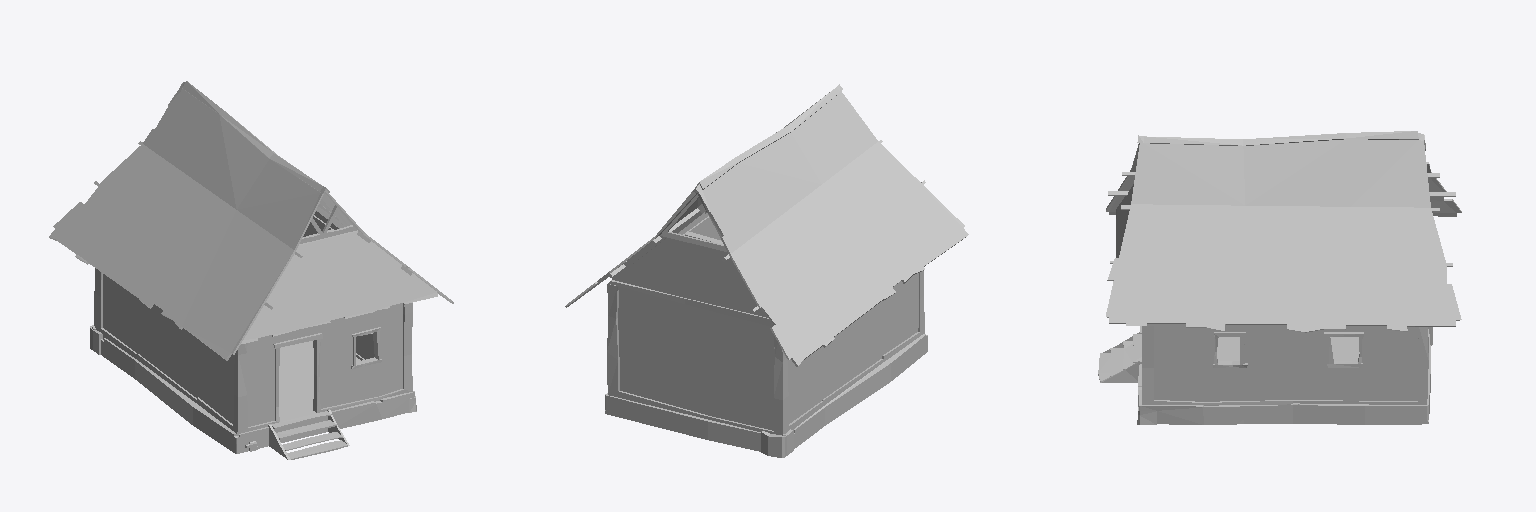
The model's file is WoodenCabinBlender.obj.
3 views of the same model, side by side, from view 1: azimuth 30°, elevation 25°; view 2: azimuth 150°, elevation 25°; view 3: azimuth 270°, elevation 25° (orthographic).
Parts seen in each view (by area): view 1: Roof_roof, WoodCabin; view 2: Roof_roof, WoodCabin; view 3: Roof_roof, WoodCabin.
Boxes of the visible parts, x1=… form: Roof_roof: x1=49, y1=81, x2=453, y2=360; WoodCabin: x1=90, y1=212, x2=416, y2=459; Roof_roof: x1=565, y1=84, x2=968, y2=366; WoodCabin: x1=605, y1=213, x2=927, y2=457; Roof_roof: x1=1106, y1=131, x2=1461, y2=332; WoodCabin: x1=1098, y1=324, x2=1432, y2=424.
Size of the model in its own units: 66.63 by 66.72 by 87.92.